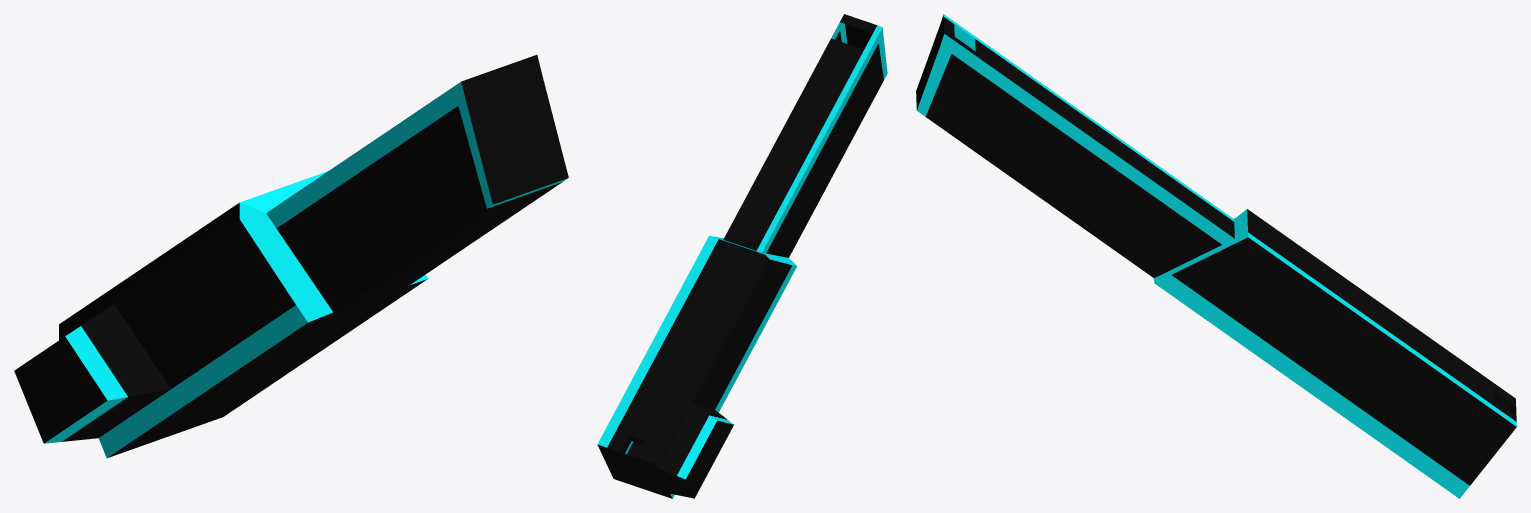
Rendered from TronBuildingFixeeeedaaassssssssaaaa.fbx.
The picture shows the model from 3 angles, left to right: view 1: azimuth 30°, elevation 25°; view 2: azimuth 150°, elevation 25°; view 3: azimuth 270°, elevation 25°; orthographic projection. The views are drawn at different scales.
Visible parts, largest first — view 1: Cube.144; view 2: Cube.144; view 3: Cube.144.
Part boxes in pixels (left/top/right/bottom): Cube.144: left=14, top=55, right=568, bottom=458; Cube.144: left=597, top=14, right=887, bottom=498; Cube.144: left=916, top=14, right=1516, bottom=498.
Size of the model in its own units: 6317 by 1787 by 7653.
